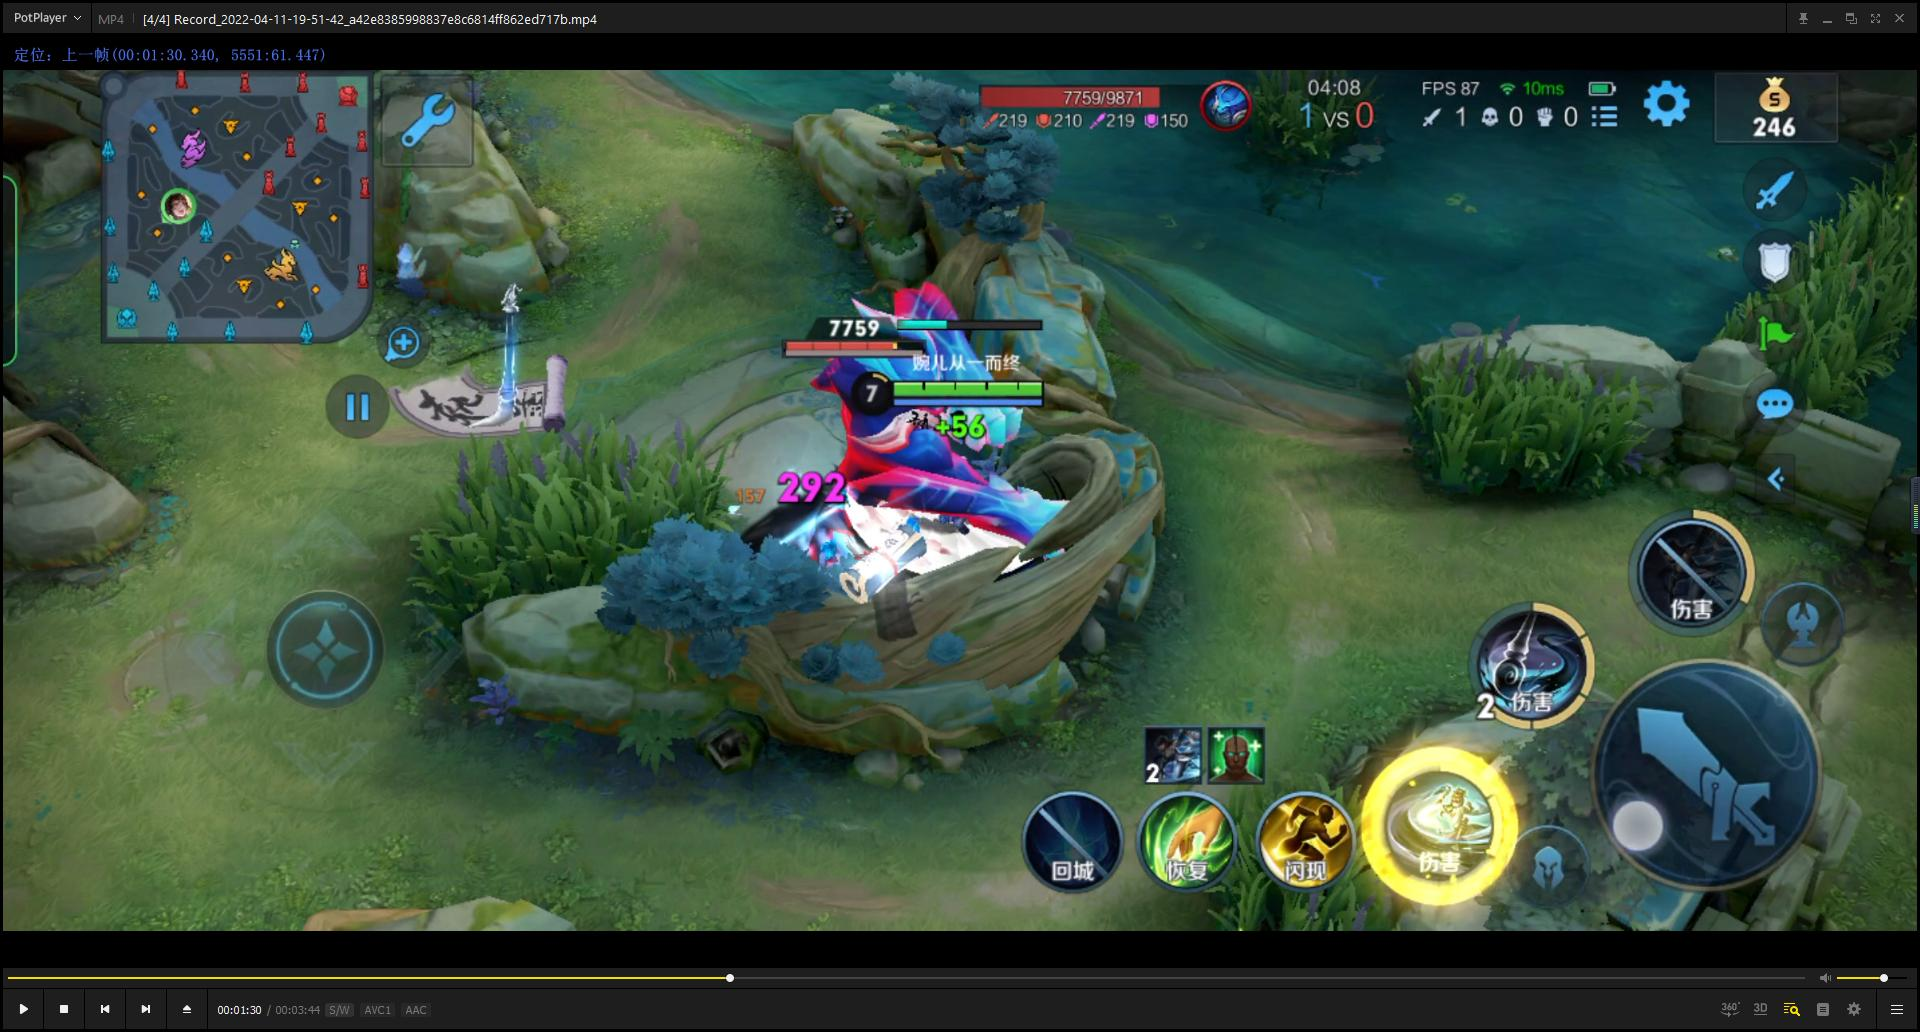Buff: (654, 261, 1097, 604)
